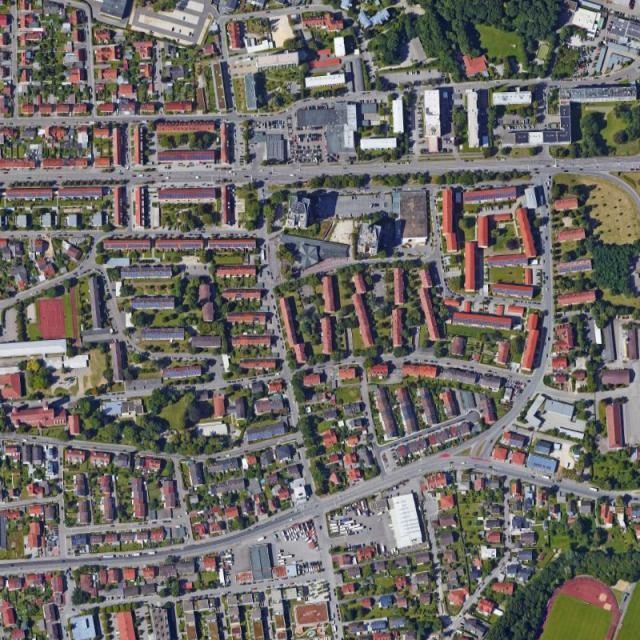vehicle: (277, 554, 294, 560), (349, 524, 362, 530), (353, 526, 364, 532), (101, 554, 115, 558), (345, 520, 355, 525), (340, 524, 352, 528), (330, 529, 339, 534), (340, 531, 350, 535), (381, 545, 386, 553), (132, 553, 140, 558), (261, 251, 265, 260), (542, 475, 551, 479), (340, 528, 349, 532), (330, 526, 339, 530), (258, 537, 265, 542), (590, 488, 598, 492), (279, 563, 286, 566), (195, 176, 202, 179), (330, 524, 340, 526), (139, 174, 144, 178), (229, 170, 234, 174), (166, 176, 171, 180), (149, 552, 155, 555), (290, 174, 296, 177)
